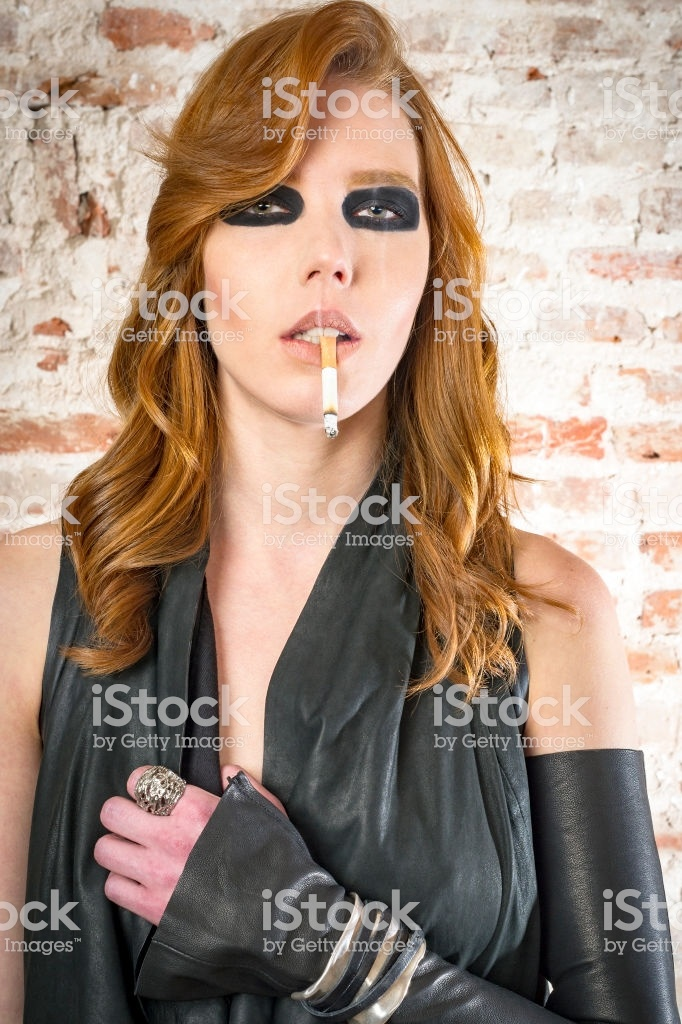sigaretta: (322, 324, 346, 442)
